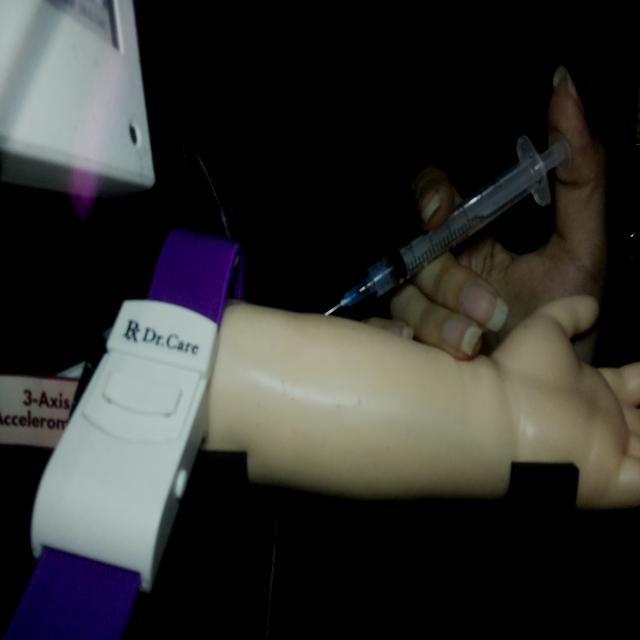26 degrees: (322, 128, 572, 318)
